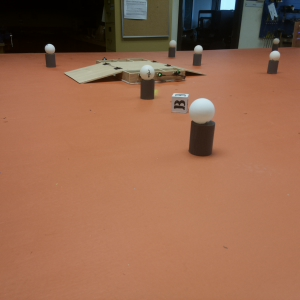obstacle: (191, 98, 217, 158), (142, 66, 155, 101), (44, 43, 58, 69), (192, 44, 204, 67), (269, 52, 280, 76), (167, 40, 178, 58), (271, 37, 281, 50)
side: (156, 69, 185, 82)
slope: (66, 62, 122, 84)
